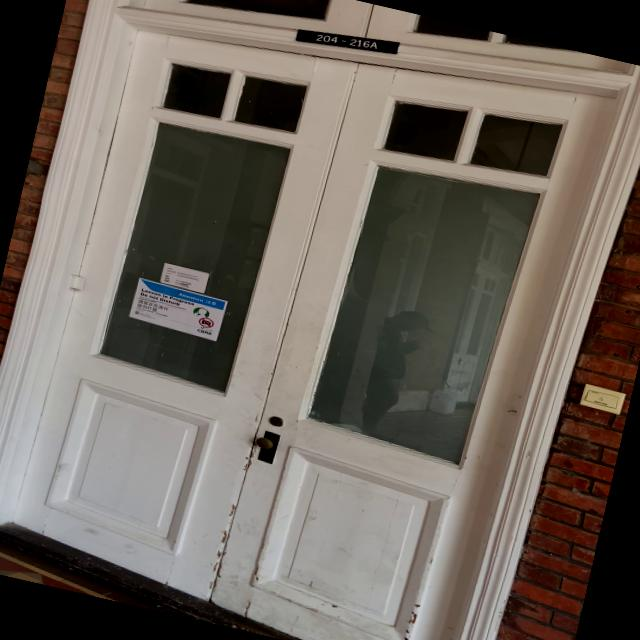room204: (292, 14, 408, 65)
